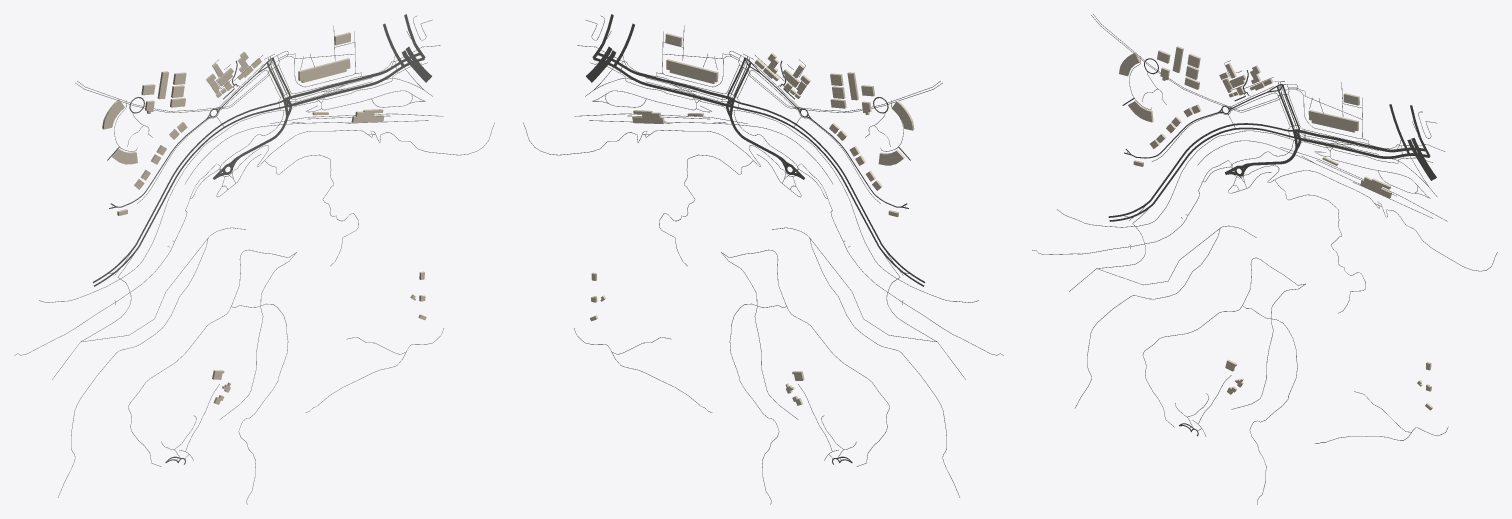
Rendered from historic-palestine-10_23_3518_3174.glb.
The picture shows the model from 3 angles, left to right: view 1: azimuth 30°, elevation 25°; view 2: azimuth 150°, elevation 25°; view 3: azimuth 330°, elevation 25°; orthographic projection. The views are drawn at different scales.
Parts seen in each view (by area): view 1: Building_.008; view 2: Building_.008; view 3: Building_.008.
Part boxes in pixels (bbox=[...]): Building_.008: bbox=[298, 58, 350, 82]; Building_.008: bbox=[666, 59, 718, 83]; Building_.008: bbox=[1308, 110, 1358, 132].
Size of the model in its own units: 1455 by 1347 by 9.09.
